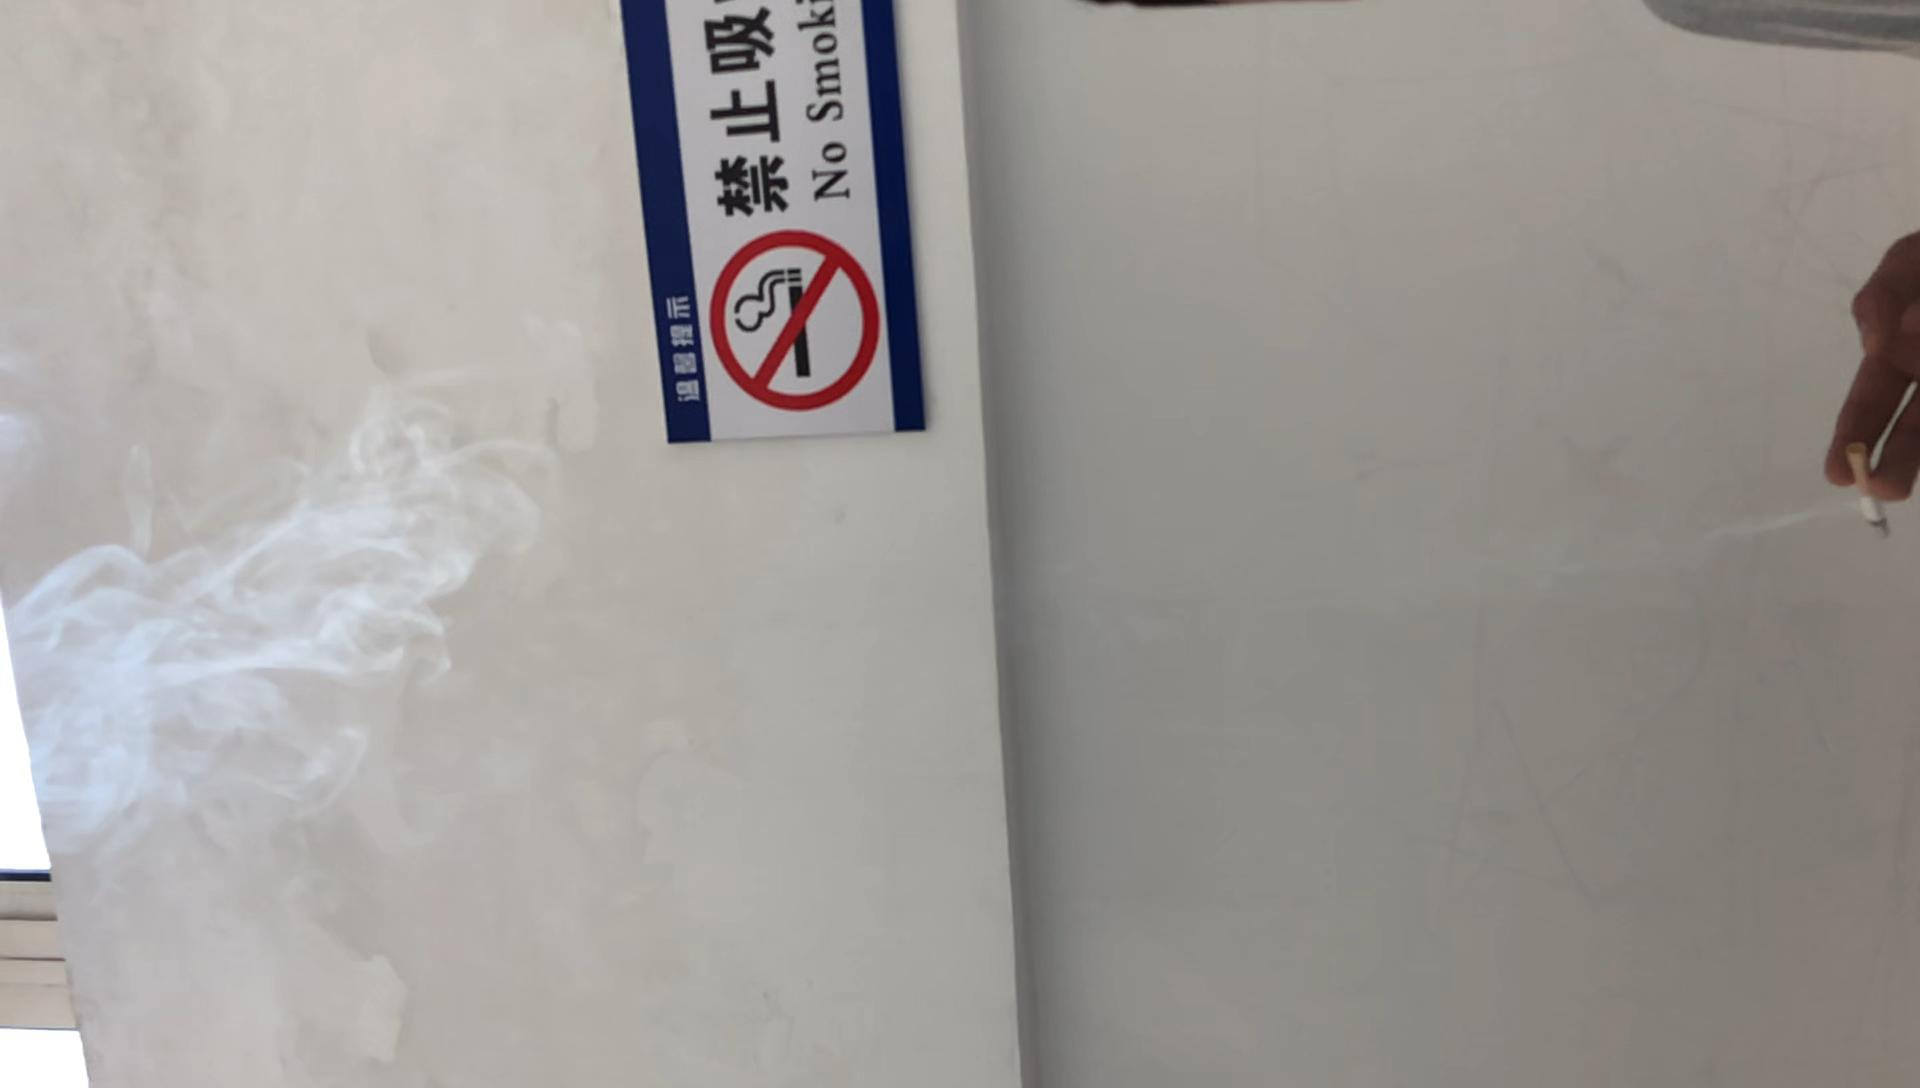yanwu: (1, 411, 493, 866)
